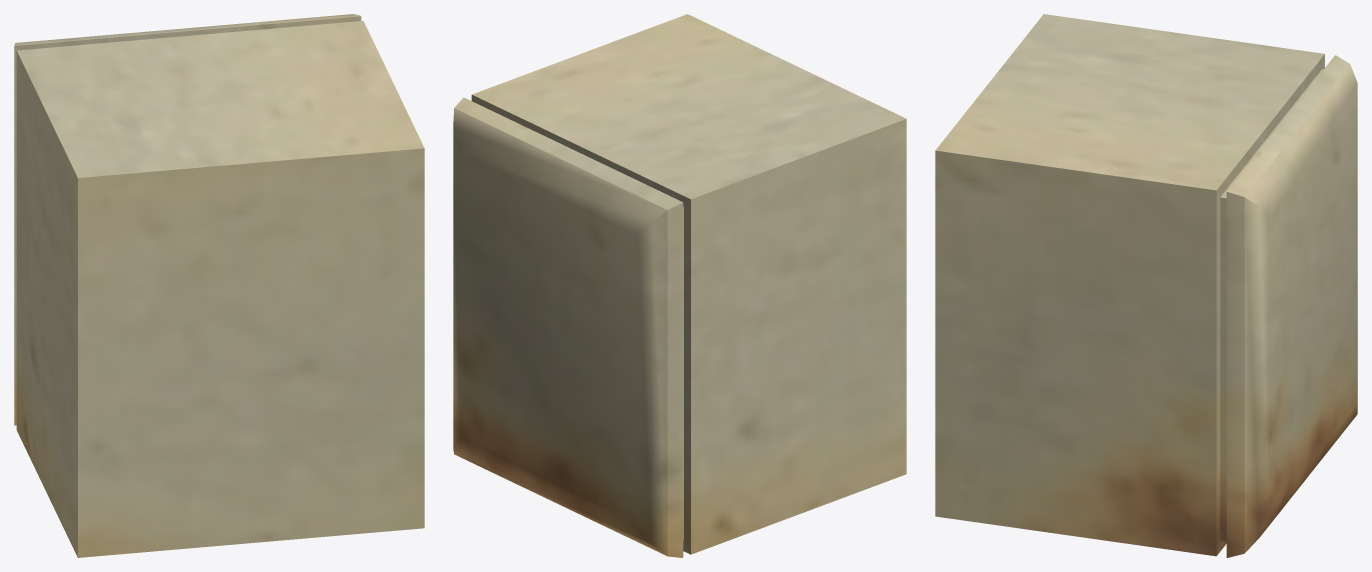
Rendered from minibar.glb.
3 views of the same model, side by side, from view 1: azimuth 30°, elevation 25°; view 2: azimuth 150°, elevation 25°; view 3: azimuth 270°, elevation 25° (orthographic). The views are drawn at different scales.
Visible parts, largest first — view 1: minibar-col; view 2: minibar-col; view 3: minibar-col.
Part boxes in pixels (left/top/right/bottom): minibar-col: left=14, top=14, right=424, bottom=557; minibar-col: left=453, top=14, right=906, bottom=557; minibar-col: left=935, top=14, right=1357, bottom=557.
Bounding box in the file's own units: 0.8676 × 0.8295 × 0.8676.
1 material, 1 textured.
